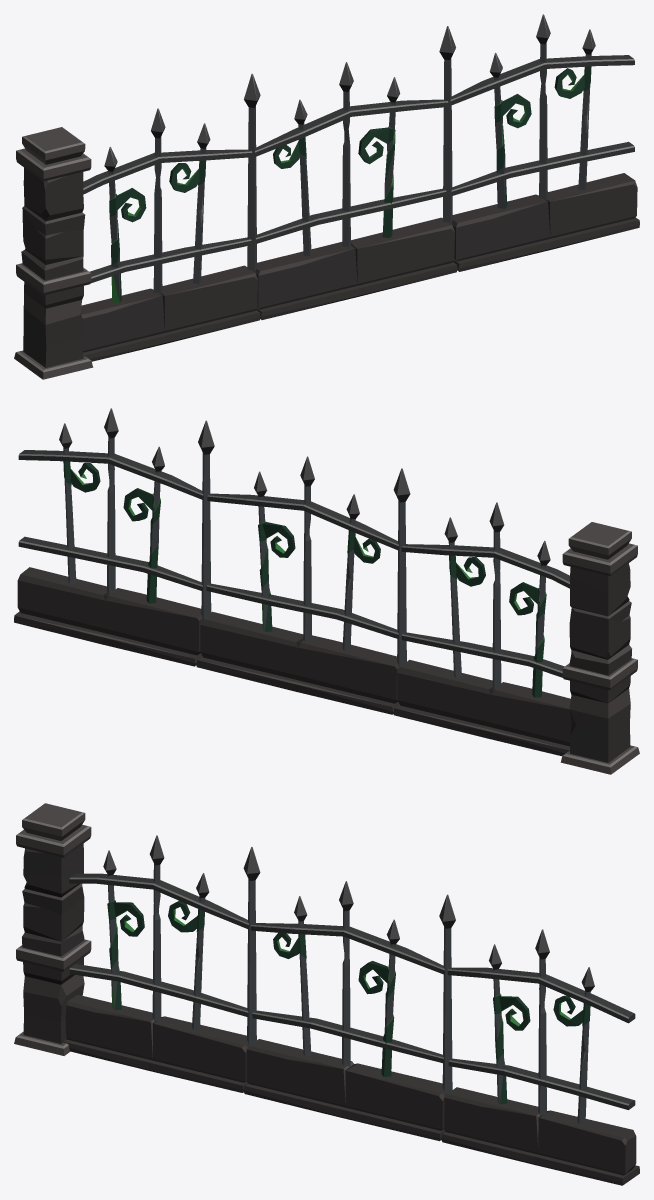
The model's file is Fence_Iron_3M.glb.
3 views of the same model, one above another, from view 1: azimuth 30°, elevation 25°; view 2: azimuth 150°, elevation 25°; view 3: azimuth 330°, elevation 25° (orthographic).
Visible parts, largest first — view 1: Fence_Iron_3M; view 2: Fence_Iron_3M; view 3: Fence_Iron_3M.
Part boxes in pixels (left/top/right/bottom): Fence_Iron_3M: left=14, top=14, right=639, bottom=379; Fence_Iron_3M: left=14, top=408, right=639, bottom=774; Fence_Iron_3M: left=14, top=803, right=639, bottom=1185.
Size of what is drawn, in the model's own units: 3.13 by 1.2 by 0.2609.
1 material, 1 textured.
